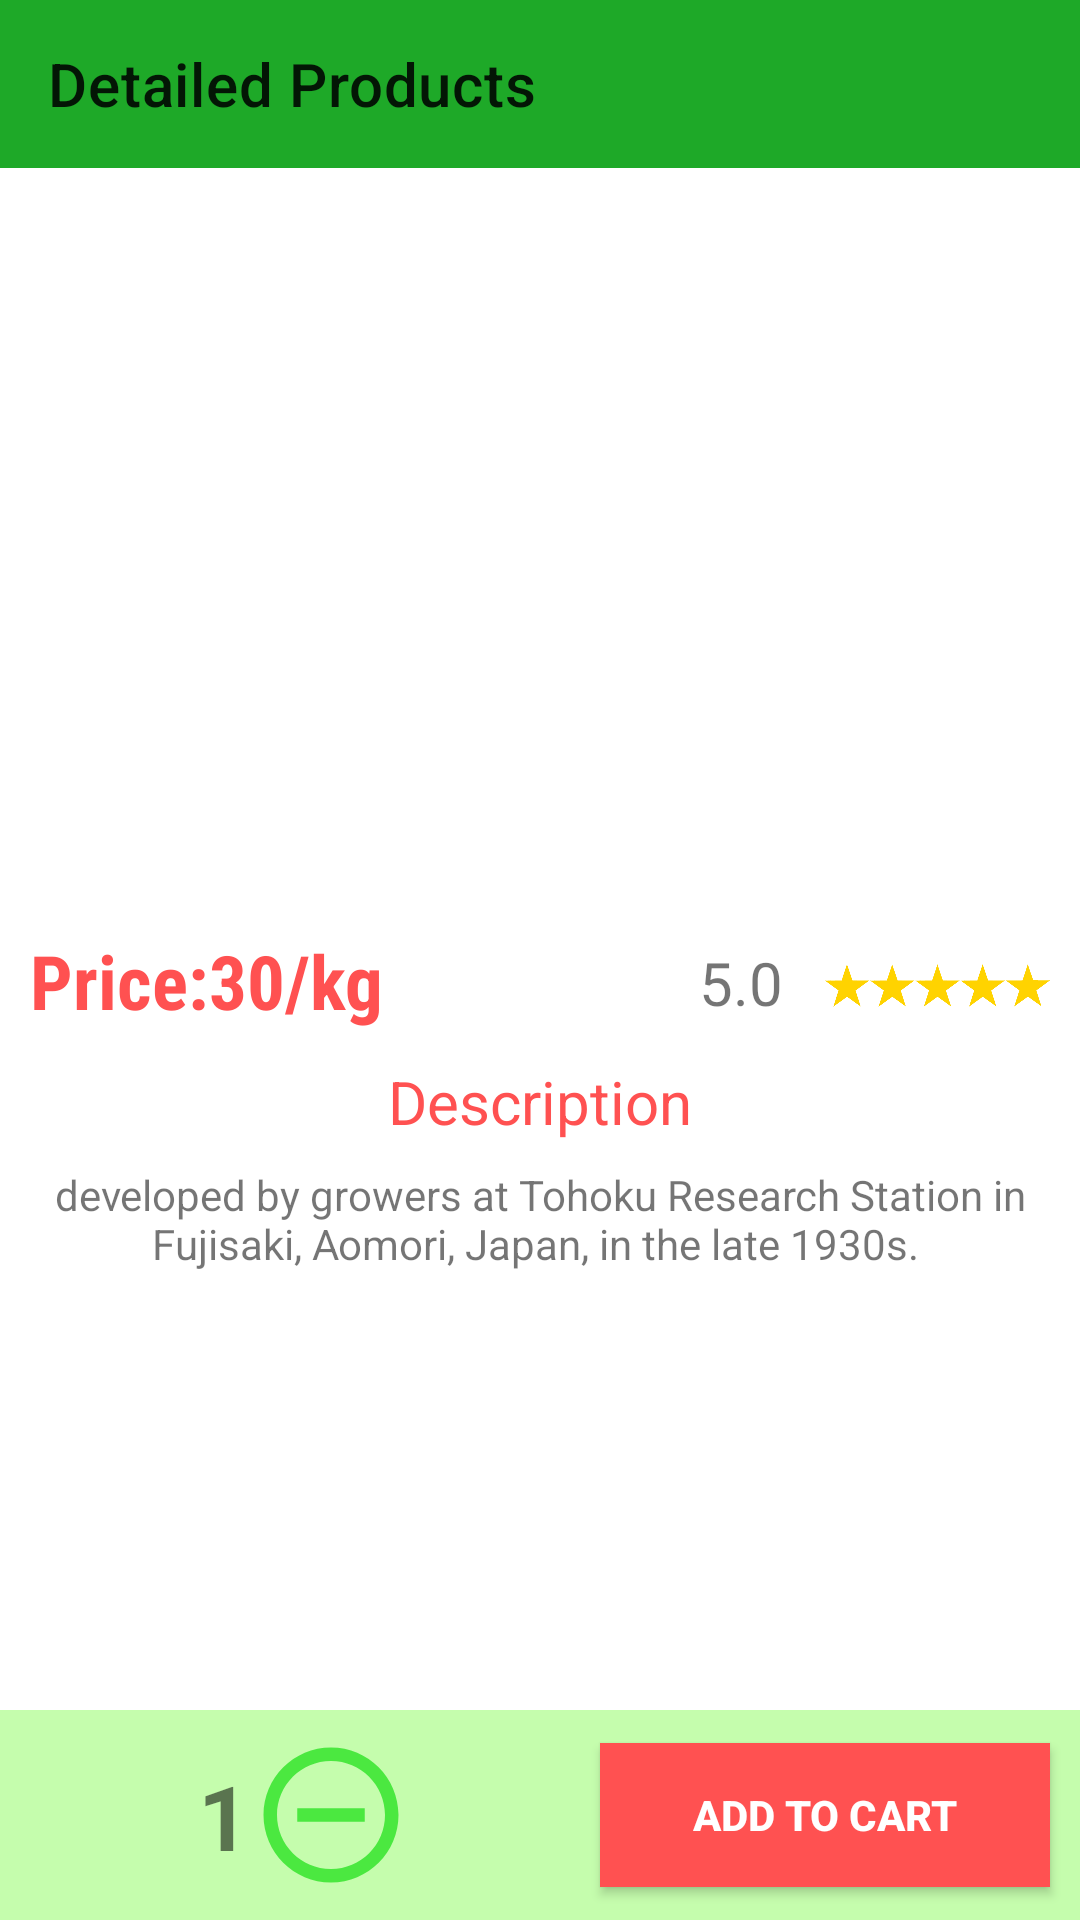

Named icons in this screenshot (1080*1920) and their centers, [x,y]:
rating bar: [937,985]
remove circle: [331,1815]
